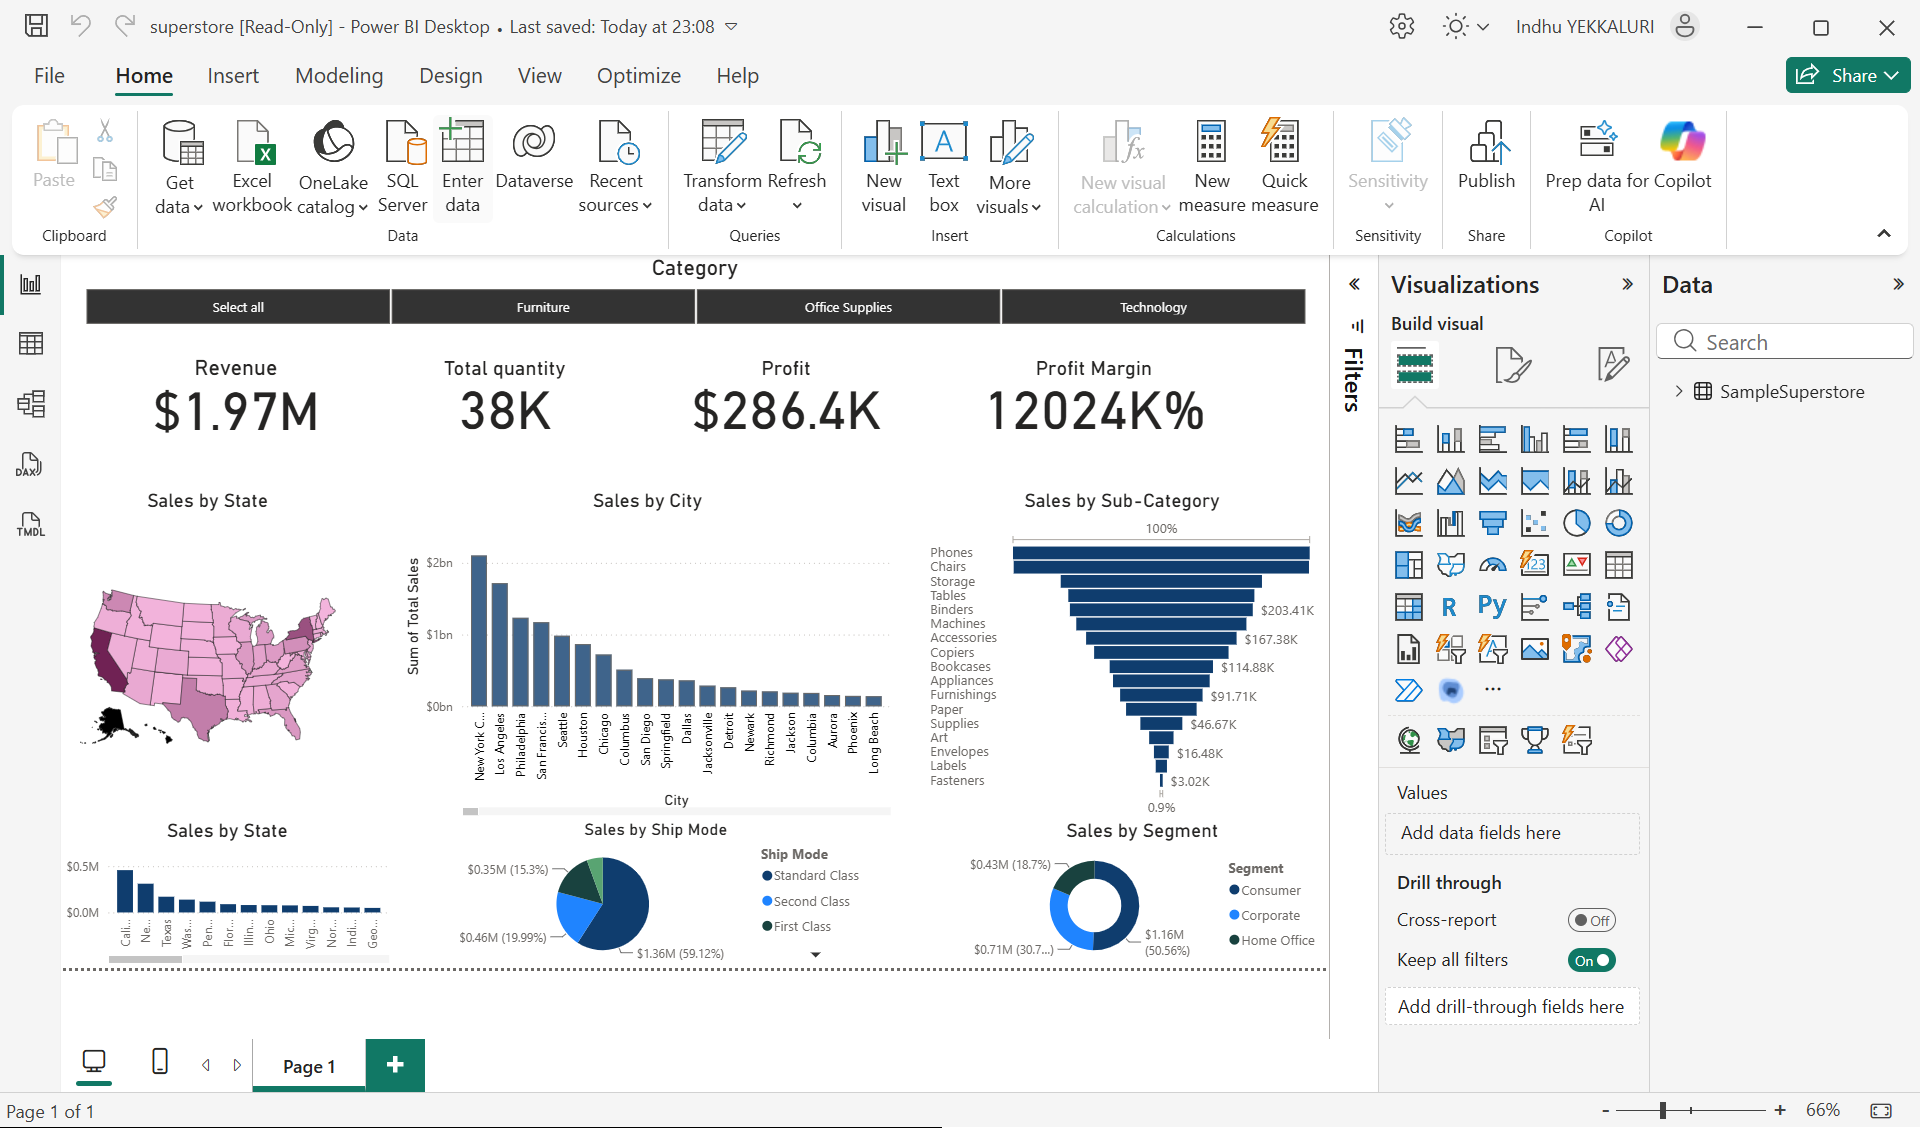

Layout of this report page (visuals, bound fields, positions):
{"tool":"powerbi","page":{"name":"Page 1","canvas":[1280,720],"ordinal":0},"visuals":[{"type":"card","title":"Profit","fields":{"Values":["Sum(SampleSuperstore.Profit)"]},"box":[592,102,280,92],"z":0},{"type":"card","title":"Revenue","fields":{"Values":["Sum(SampleSuperstore.Revenue)"]},"box":[58,102,238,92],"z":1000},{"type":"card","title":"Total quantity","fields":{"Values":["Sum(SampleSuperstore.Quantity)"]},"box":[336,102,224,92],"z":2000},{"type":"card","title":"Profit Margin","fields":{"Values":["Sum(SampleSuperstore.Profit Margin (%))"]},"box":[886,102,314,92],"z":3000},{"type":"shapeMap","title":"Sales by State","fields":{"Category":["SampleSuperstore.State"],"Value":["Sum(SampleSuperstore.Sales)"]},"box":[0,236,296,334],"z":4000},{"type":"clusteredColumnChart","title":"Sales by State","fields":{"Y":["Sum(SampleSuperstore.Sales)"],"Category":["SampleSuperstore.State"]},"box":[0,570,336,150],"z":5000},{"type":"clusteredColumnChart","title":"Sales by City","fields":{"Category":["SampleSuperstore.City"],"Y":["Sum(SampleSuperstore.Total Sales)"]},"box":[342,236,500,334],"z":6000},{"type":"pieChart","title":"Sales by Ship Mode","fields":{"Y":["Sum(SampleSuperstore.Sales)"],"Category":["SampleSuperstore.Ship Mode"]},"box":[382,570,438,150],"z":7000},{"type":"funnel","title":"Sales by Sub-Category","fields":{"Category":["SampleSuperstore.Sub-Category"],"Y":["Sum(SampleSuperstore.Sales)"]},"box":[872,236,398,334],"z":8000},{"type":"donutChart","title":"Sales by Segment","fields":{"Category":["SampleSuperstore.Segment"],"Y":["Sum(SampleSuperstore.Sales)"]},"box":[902,570,378,150],"z":9000},{"type":"slicer","title":"Category","fields":{"Values":["SampleSuperstore.Category"]},"box":[0,0,1280,76],"z":10000}]}

Visuals, with their boxes on the page's 1280x720 design canvas (x1, y1, x2, y2). These are canvas units, not pixel positions in the 1920x1128 screenshot, which may show the page scaled, cropped or inside an application window:
"Profit" card: 592, 102, 872, 194
"Revenue" card: 58, 102, 296, 194
"Total quantity" card: 336, 102, 560, 194
"Profit Margin" card: 886, 102, 1200, 194
"Sales by State" shapeMap: 0, 236, 296, 570
"Sales by State" clusteredColumnChart: 0, 570, 336, 720
"Sales by City" clusteredColumnChart: 342, 236, 842, 570
"Sales by Ship Mode" pieChart: 382, 570, 820, 720
"Sales by Sub-Category" funnel: 872, 236, 1270, 570
"Sales by Segment" donutChart: 902, 570, 1280, 720
"Category" slicer: 0, 0, 1280, 76
